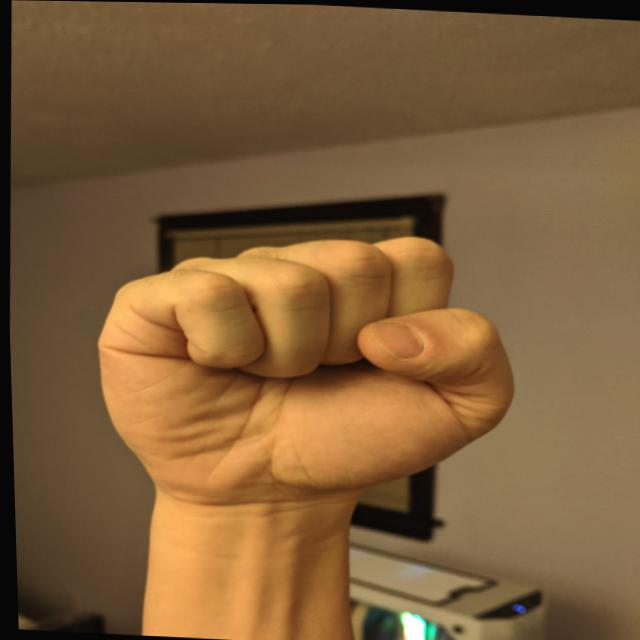S: (77, 211, 531, 523)
